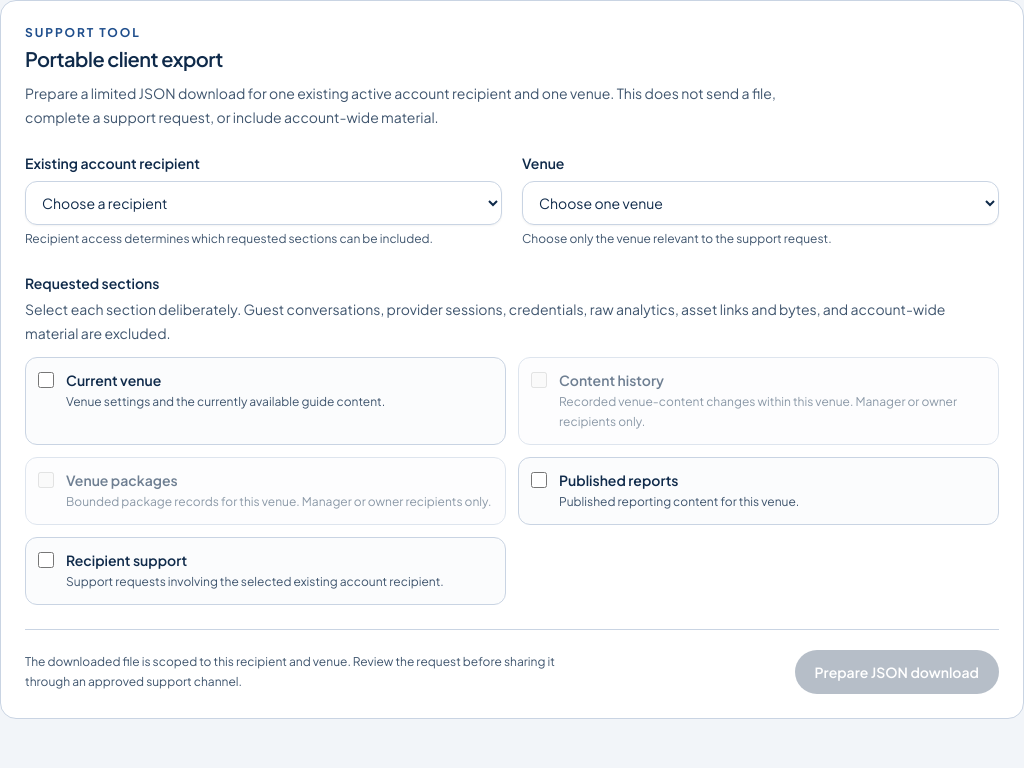
it: SupportPortableExportForm › requires an explicit recipient, venue, and requested section before preparing
Expected: the button "Prepare JSON download" is disabled, [794,650,999,694]
Select "Avery Operator with a deliberately long name for the select control · avery@exam" in the dropdown labelled "Existing account recipient" at (264, 203), box [25,181,502,225]
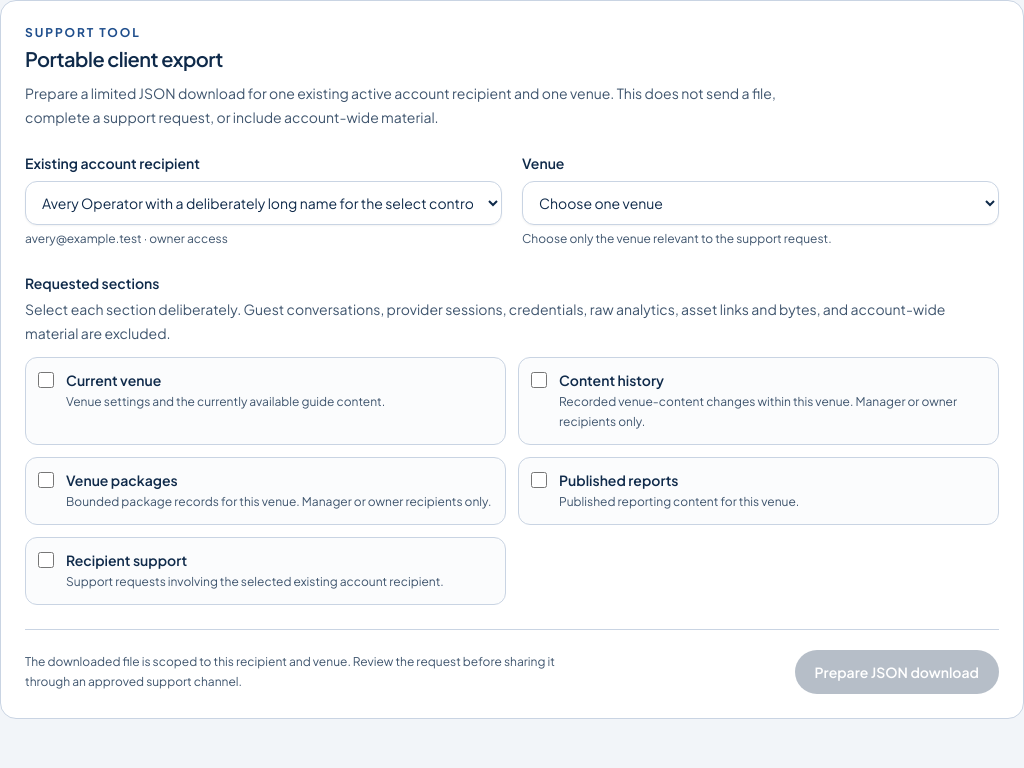
Select "Riverside Aquarium with an intentionally long venue label" in the dropdown labelled "Venue" at (760, 203), box [522,181,999,225]
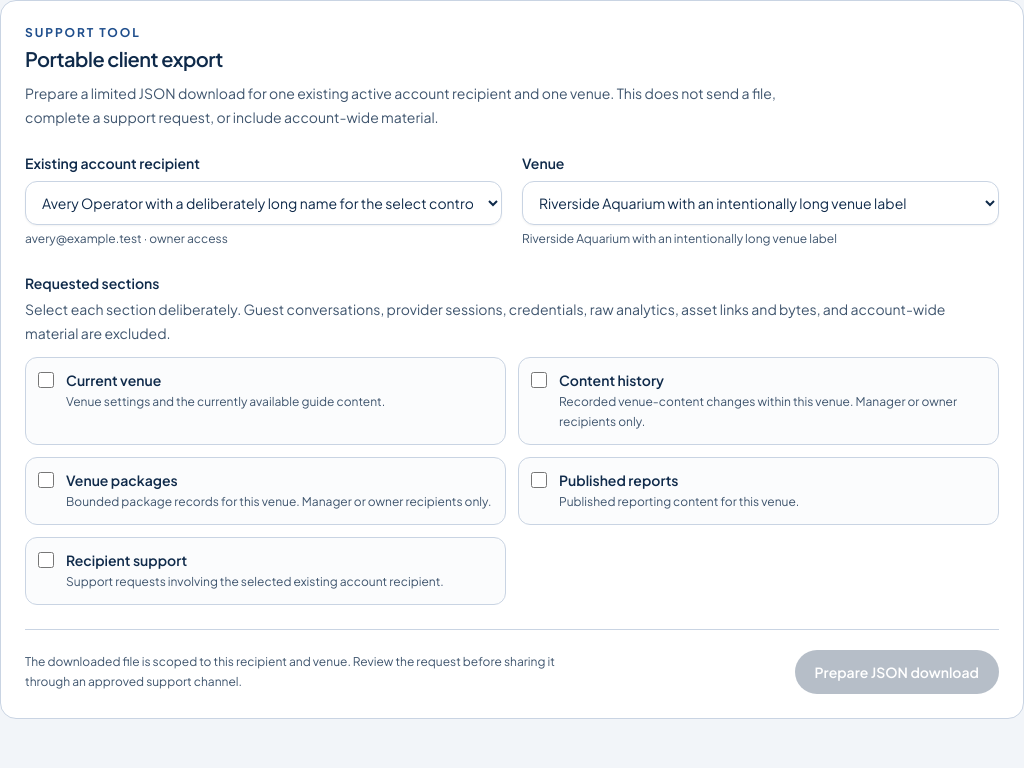
Expected: the button "Prepare JSON download" is disabled, [794,650,999,694]
Click the checkbox labelled "Current venue".
click(46, 380)  # box [38,372,54,388]
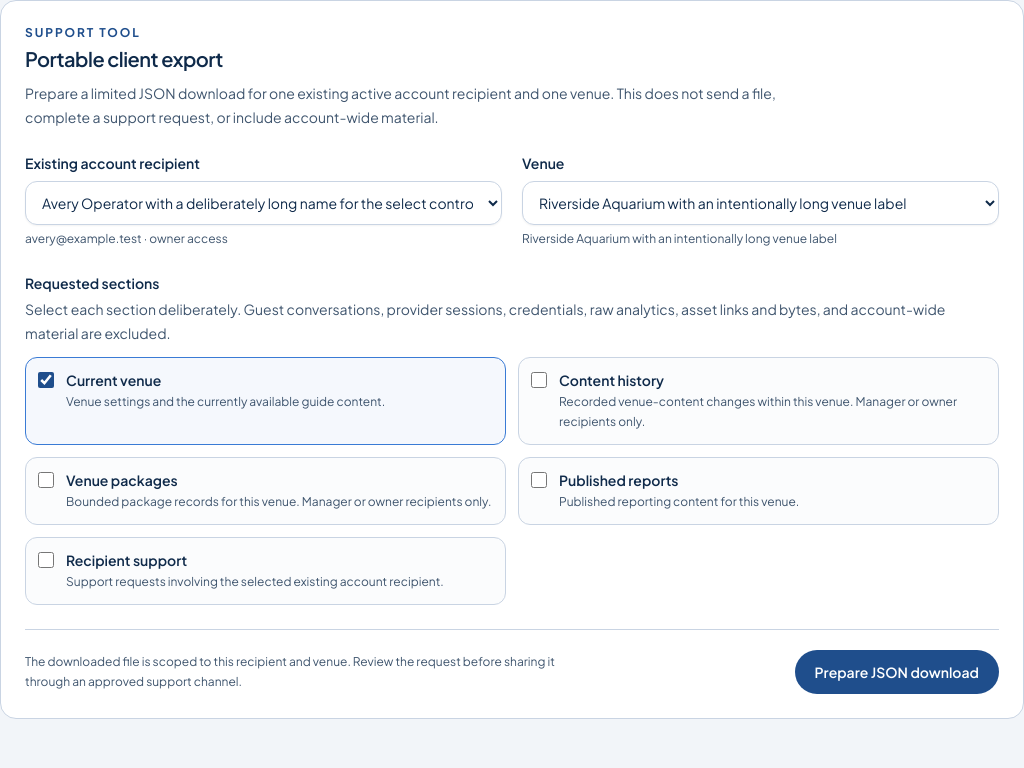
Expected: the button "Prepare JSON download" is enabled, [794,650,999,694]
